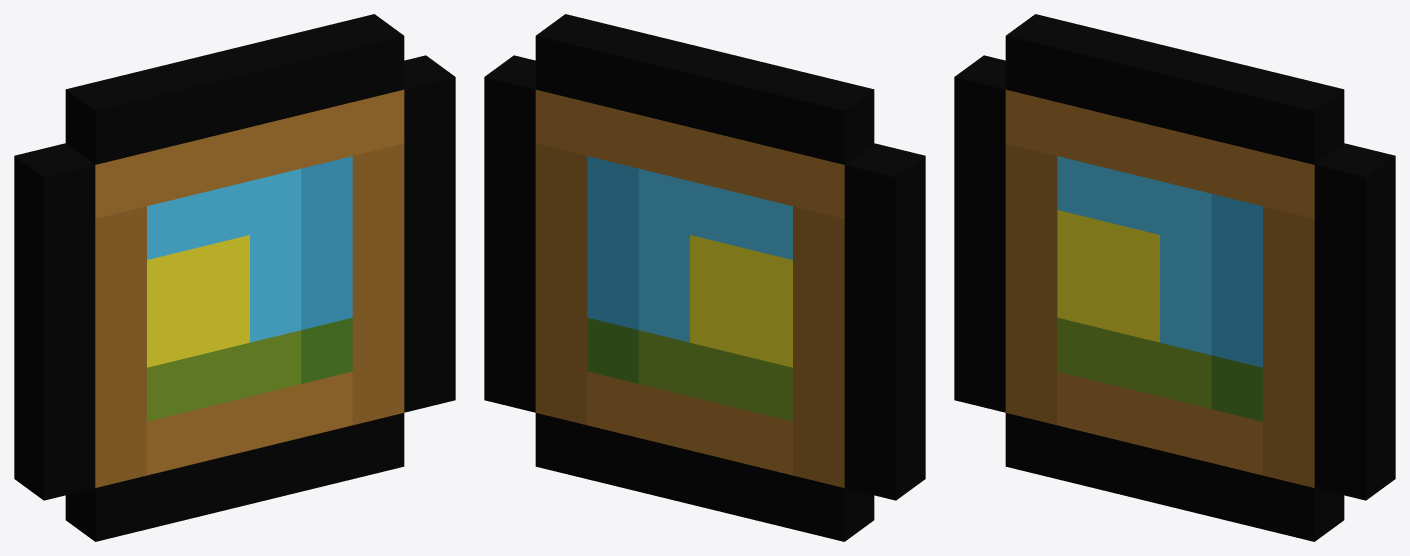
The model's file is clock_wood_early_day.glb.
3 views of the same model, side by side, from view 1: azimuth 30°, elevation 25°; view 2: azimuth 150°, elevation 25°; view 3: azimuth 330°, elevation 25° (orthographic).
Parts seen in each view (by area): view 1: generated(Clone); view 2: generated(Clone); view 3: generated(Clone).
Boxes of the visible parts, bbox=[...] form: generated(Clone): bbox=[14, 14, 455, 541]; generated(Clone): bbox=[484, 14, 925, 541]; generated(Clone): bbox=[954, 14, 1395, 541].
Bounding box in the file's own units: 8 × 8 × 1.
Materials: 1 (1 with a texture image).
